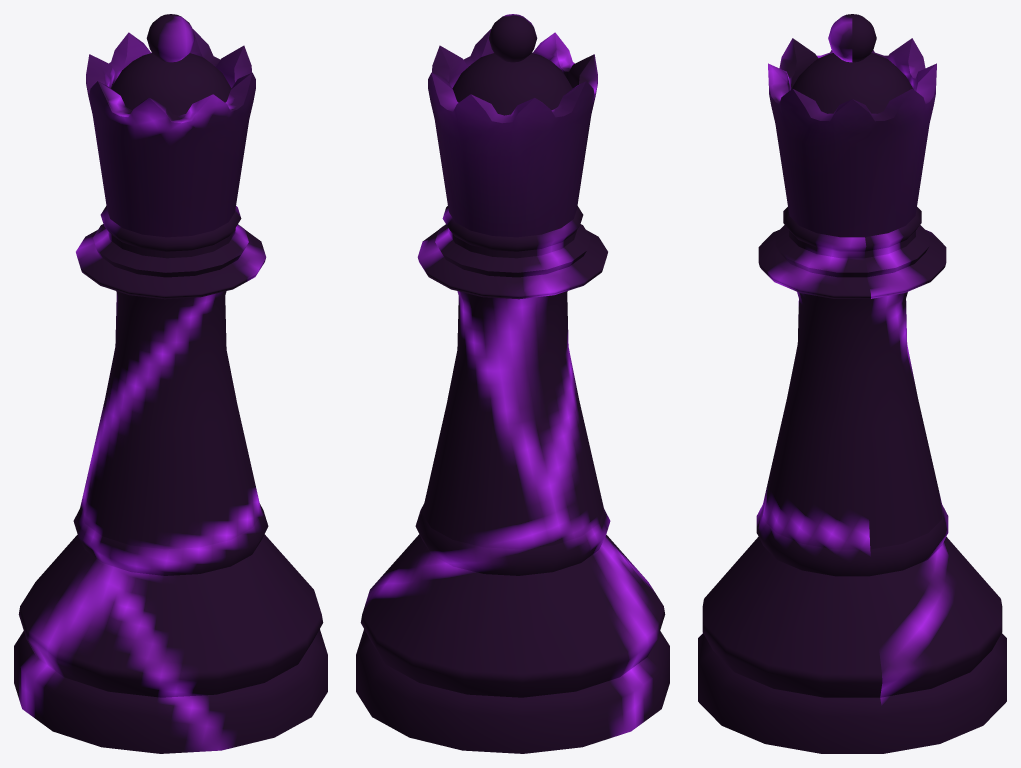
Rendered from item-4-9.glb.
3 views of the same model, side by side, from view 1: azimuth 30°, elevation 25°; view 2: azimuth 150°, elevation 25°; view 3: azimuth 270°, elevation 25° (orthographic).
Parts seen in each view (by area): view 1: BlackQueen; view 2: BlackQueen; view 3: BlackQueen.
Part boxes in pixels (<box>): BlackQueen: <box>14,14,327,753</box>; BlackQueen: <box>356,14,669,753</box>; BlackQueen: <box>698,14,1006,753</box>.
Size of the model in its own units: 0.0968 by 0.2326 by 0.0968.
1 material, 1 textured.
